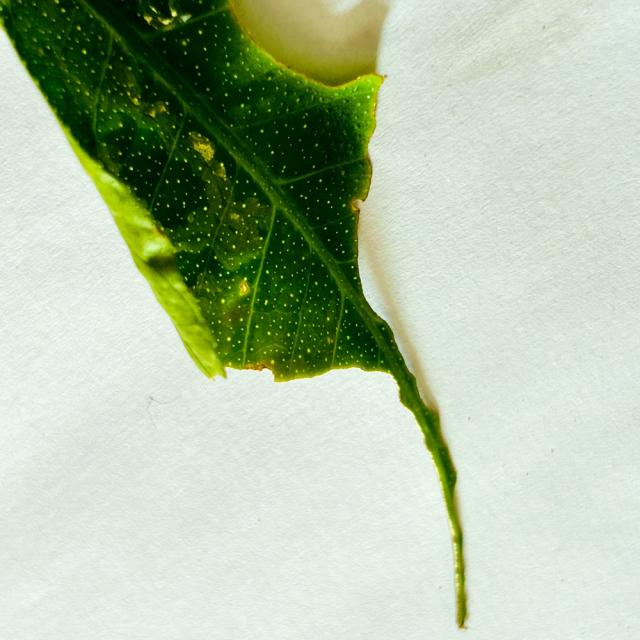Deficiency Leaf: (216, 371, 453, 599), (361, 124, 479, 439), (235, 0, 377, 86)
Lemon: (0, 0, 466, 623)
